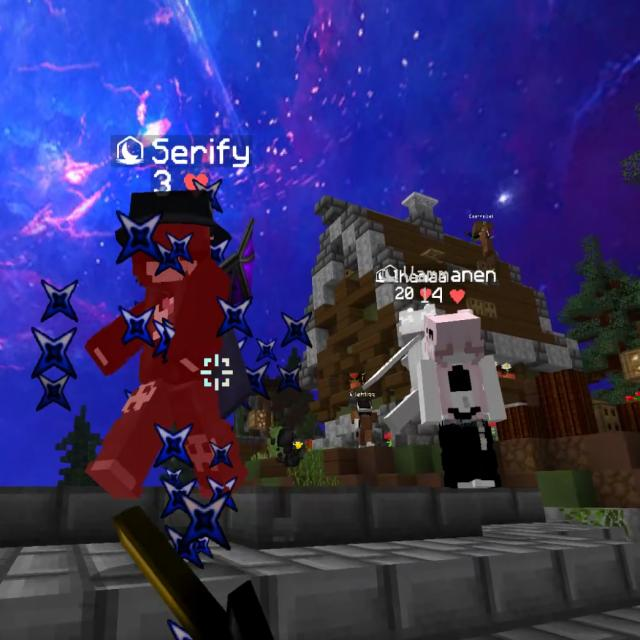Player: (85, 189, 270, 500), (420, 312, 512, 489), (351, 400, 378, 447)
